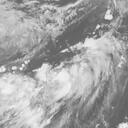cyclone: (48, 55, 85, 95)
